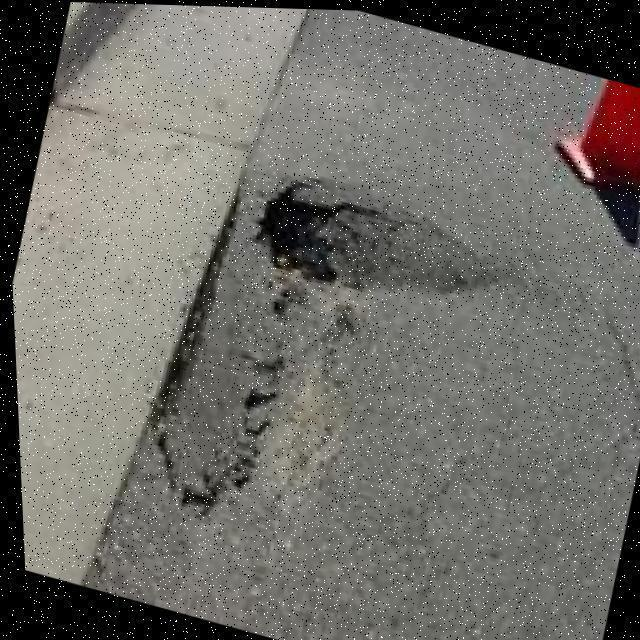Pothole: (147, 175, 503, 528)
